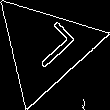L_SW: (15, 19, 75, 76)
